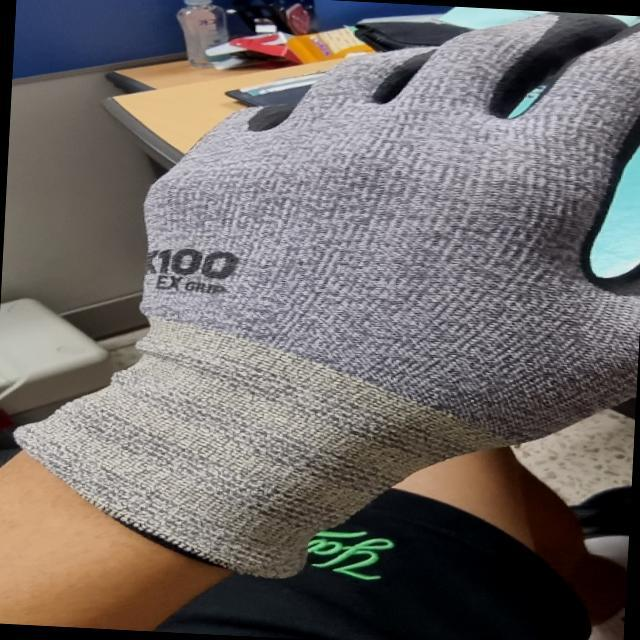Gloves: (138, 7, 640, 560)
